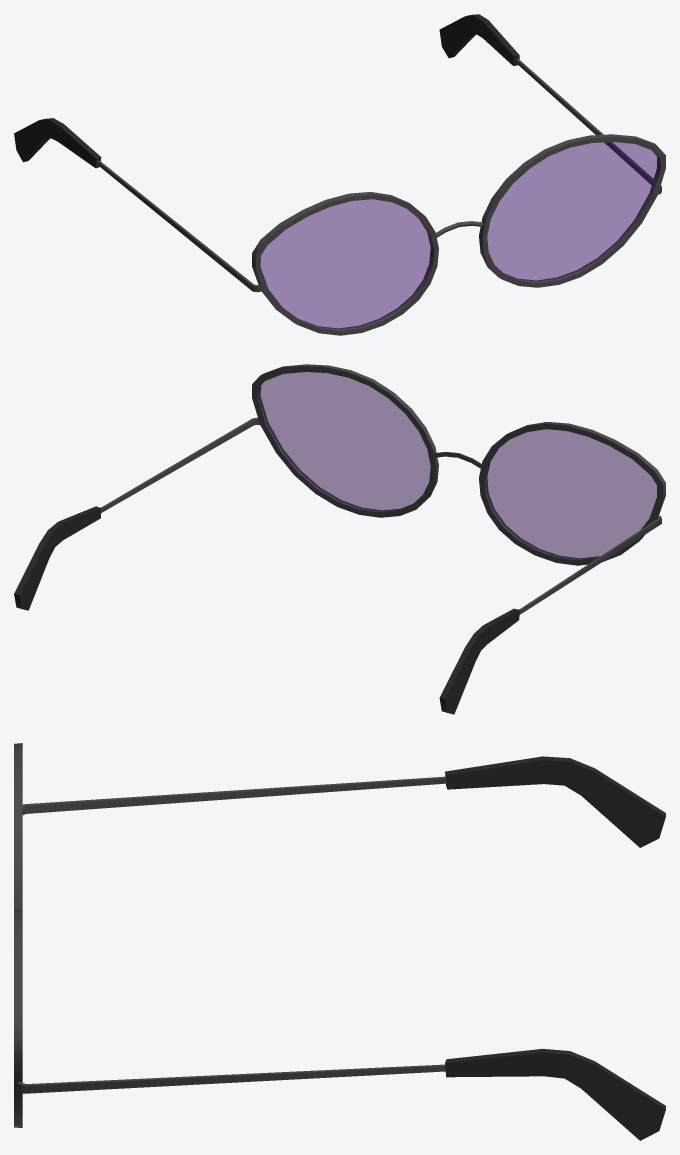
File: ThinCatEyeSunglasses.fbx
3 renders of one model, top to bottom at view 1: azimuth 30°, elevation 25°; view 2: azimuth 150°, elevation 25°; view 3: azimuth 270°, elevation 25°, orthographic. The views are drawn at different scales.
Parts seen in each view (by area): view 1: ThinCatEyeSunglasses; view 2: ThinCatEyeSunglasses; view 3: ThinCatEyeSunglasses.
Part boxes in pixels (box(x1,y1,x2,y2)): ThinCatEyeSunglasses: box(14, 14, 665, 335); ThinCatEyeSunglasses: box(14, 364, 665, 714); ThinCatEyeSunglasses: box(14, 743, 665, 1140).
Size of the model in its own units: 70.09 by 21.74 by 65.03.
